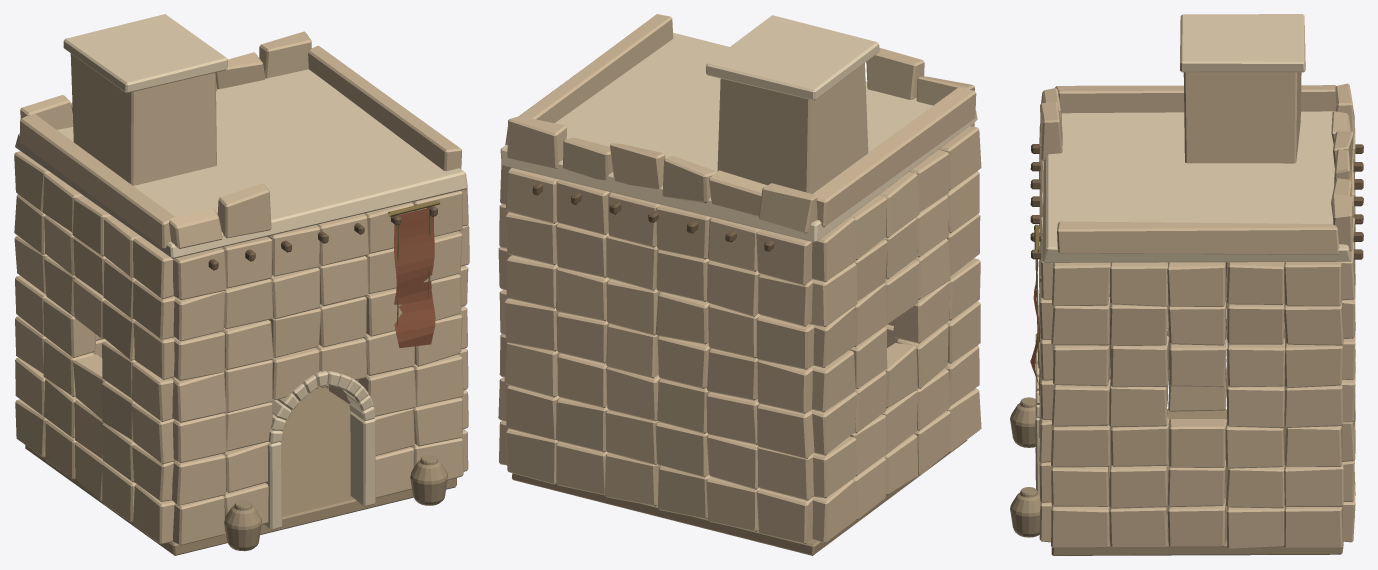
File: house1.glb
The picture shows the model from 3 angles, left to right: view 1: azimuth 30°, elevation 25°; view 2: azimuth 150°, elevation 25°; view 3: azimuth 270°, elevation 25°; orthographic projection. The views are drawn at different scales.
Parts seen in each view (by area): view 1: house1_stone, house1_trim, house1_darkstone, house1_cloth, house1_wood, house1_bronze; view 2: house1_stone, house1_trim, house1_darkstone, house1_wood; view 3: house1_stone, house1_trim, house1_darkstone, house1_wood.
Boxes of the visible parts, x1,y1,x2,y2 form: house1_stone: (14, 31, 469, 545); house1_trim: (15, 14, 467, 529); house1_darkstone: (25, 387, 456, 555); house1_cloth: (394, 207, 435, 348); house1_wood: (208, 206, 437, 270); house1_bronze: (388, 200, 440, 326); house1_stone: (498, 14, 981, 543); house1_trim: (500, 15, 977, 242); house1_darkstone: (512, 440, 967, 555); house1_wood: (532, 183, 774, 251); house1_stone: (1039, 72, 1355, 549); house1_trim: (1035, 14, 1351, 493); house1_darkstone: (1010, 397, 1343, 555); house1_wood: (1030, 144, 1363, 259).
Bounding box in the file's own units: 8.52 × 11.06 × 8.51.
